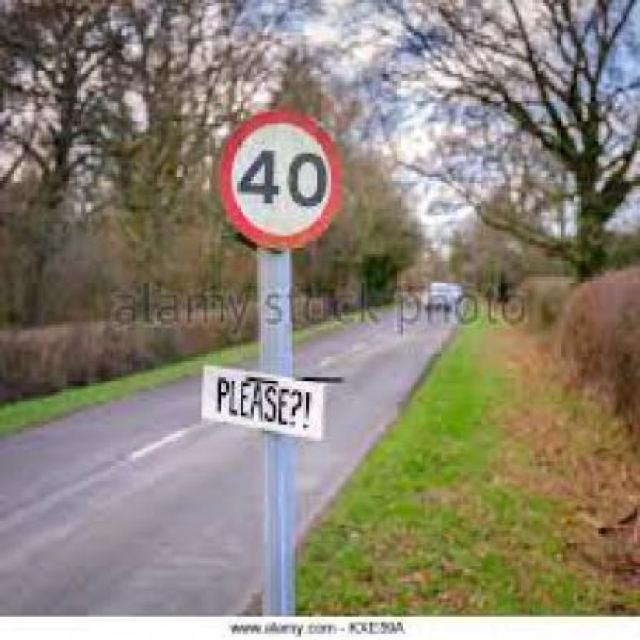forb_speed_over_40: (226, 114, 339, 248)
